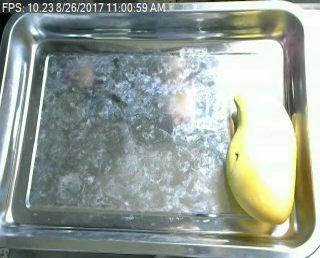Mango: (222, 92, 304, 228)
